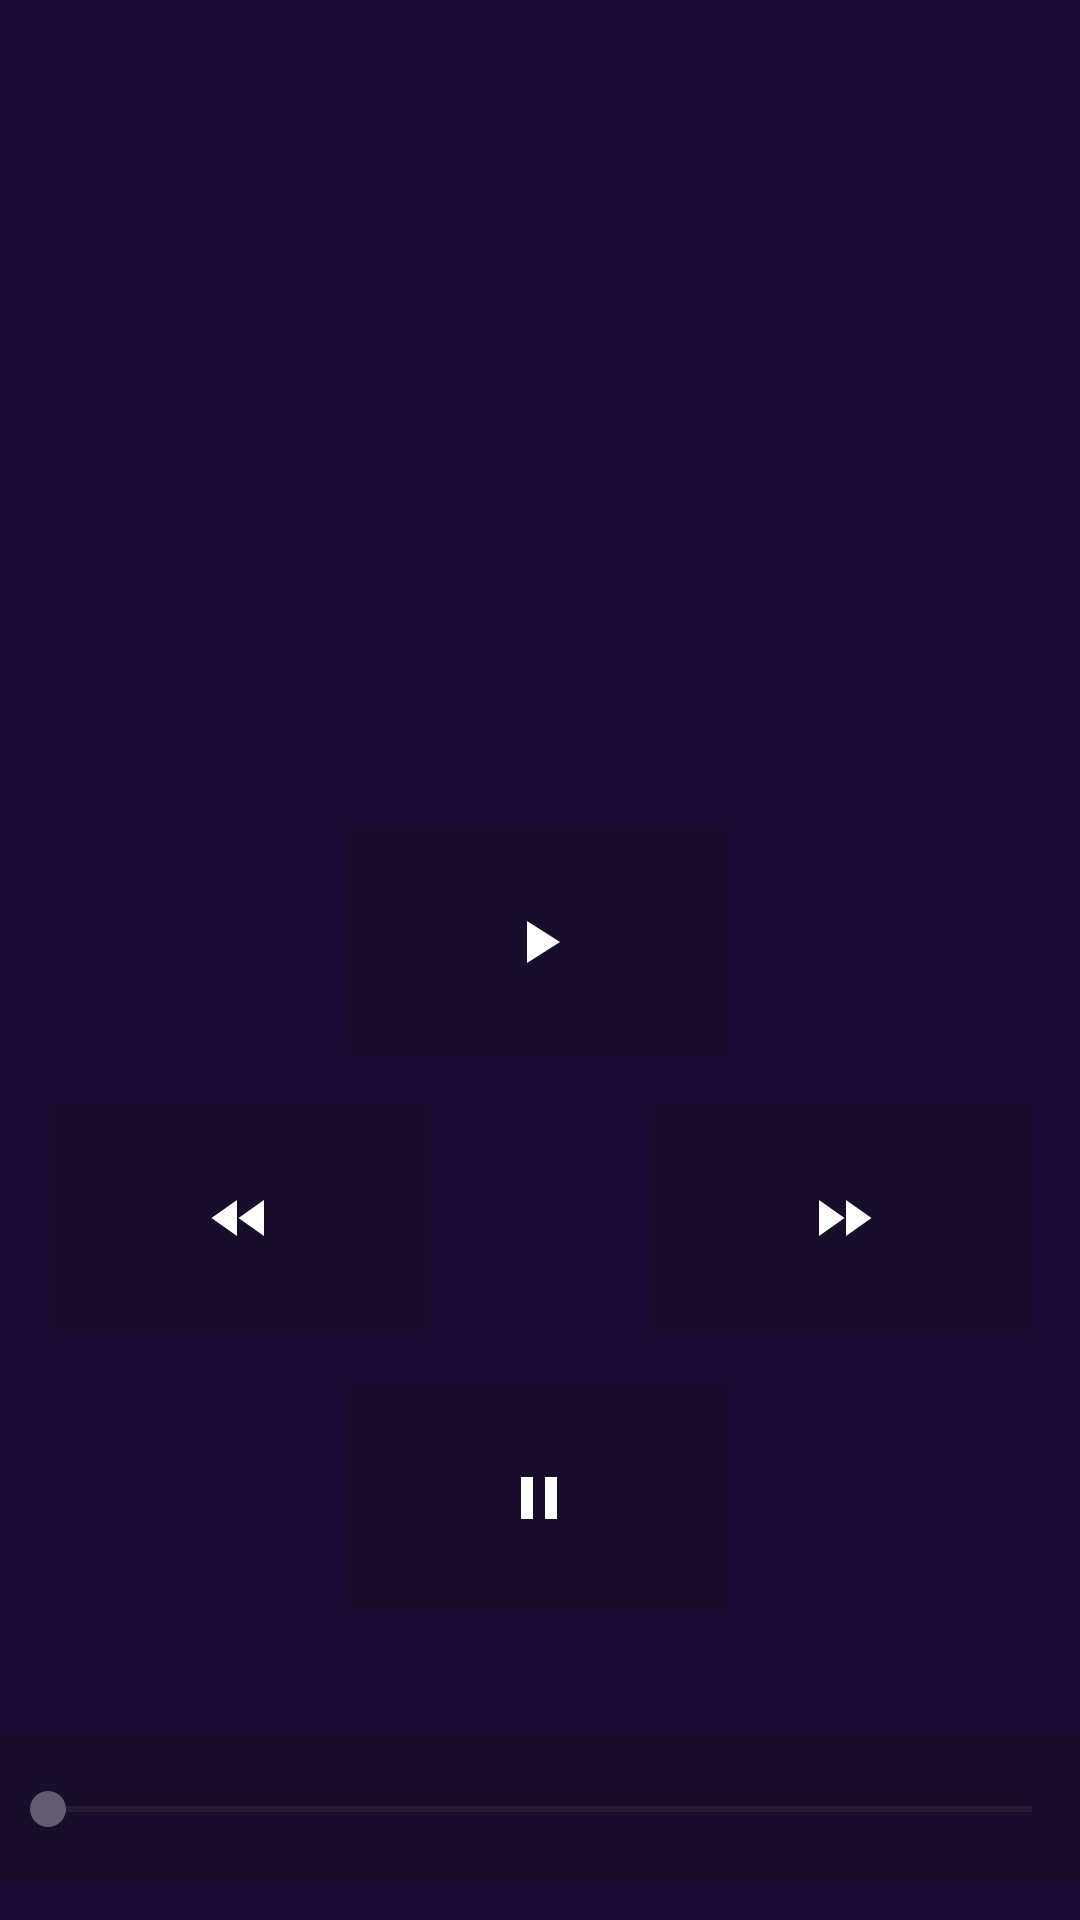

Named icons in this screenshot (1080w x 1920h) and their bounding boxes, rect(x1, y1, x2, y2):
fast forward: rect(819, 1200, 871, 1236)
fast rewind: rect(212, 1200, 264, 1236)
pause: rect(521, 1477, 557, 1519)
play arrow: rect(527, 921, 560, 963)
